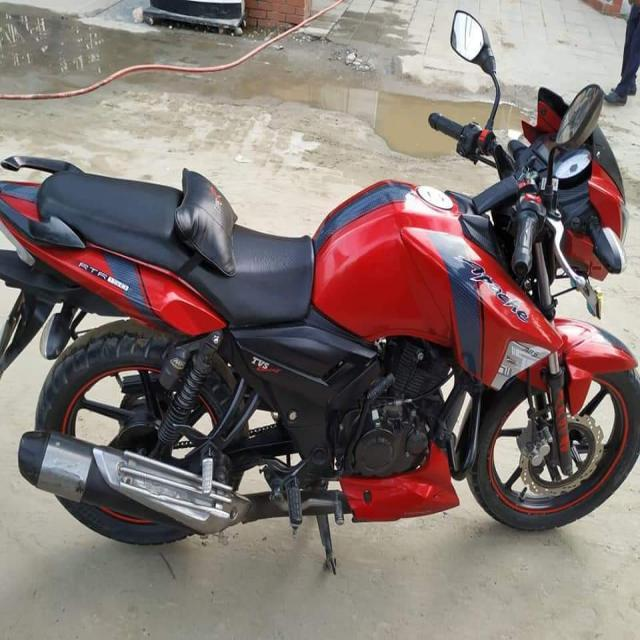Motorbike: (1, 26, 640, 584)
